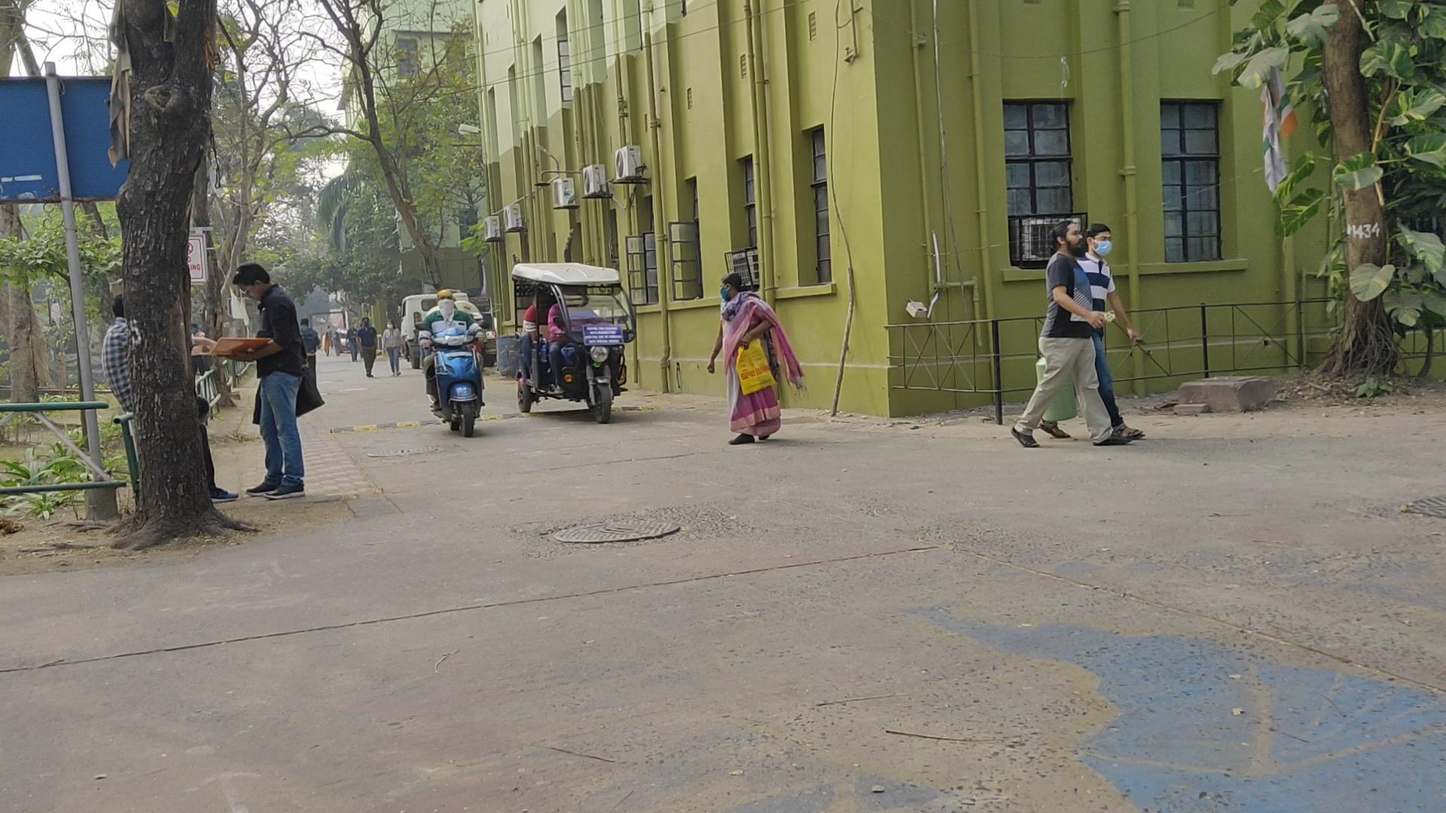Auto: (508, 262, 636, 422)
bike: (413, 289, 490, 436)
